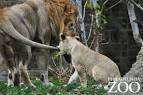lion: (2, 2, 77, 90), (58, 35, 122, 93)
